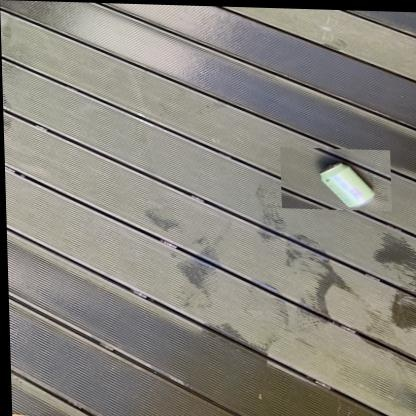trash: (320, 163, 374, 207)
